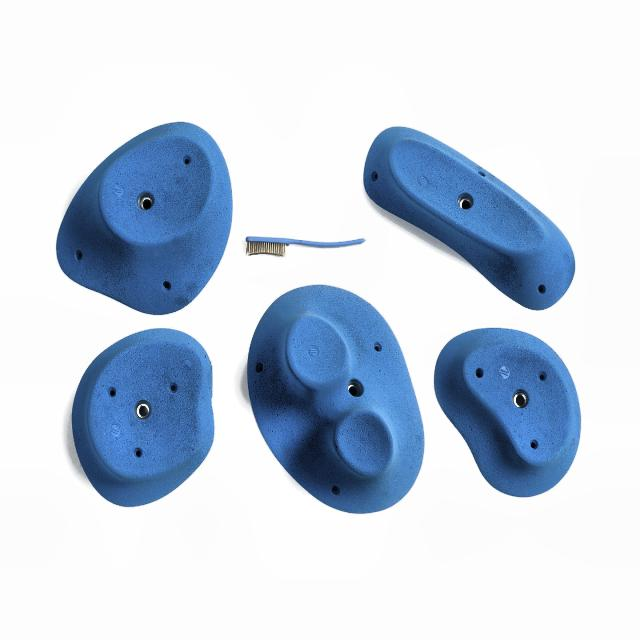Hold: (362, 121, 581, 309), (247, 286, 424, 514), (47, 109, 227, 317), (68, 340, 220, 519), (436, 326, 581, 506)
